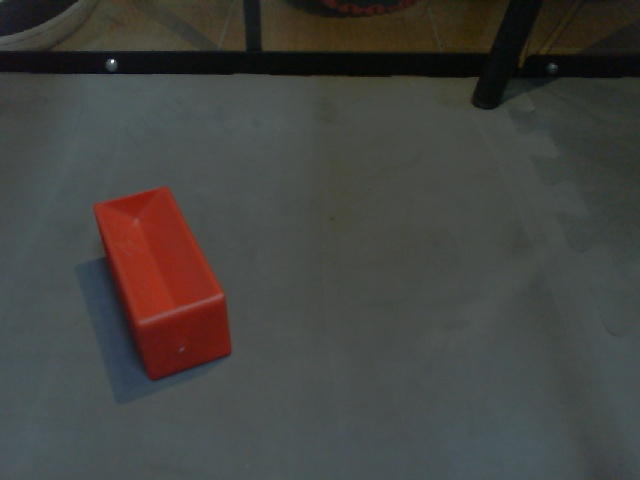RedSample: (91, 182, 236, 379)
